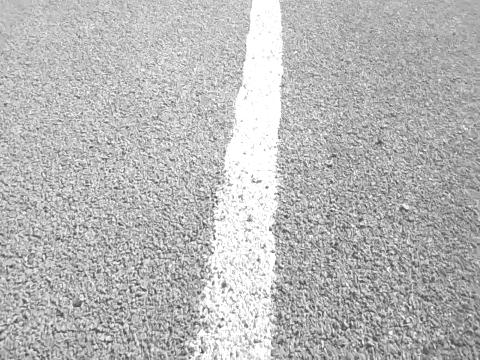Lines: (190, 0, 284, 360)
